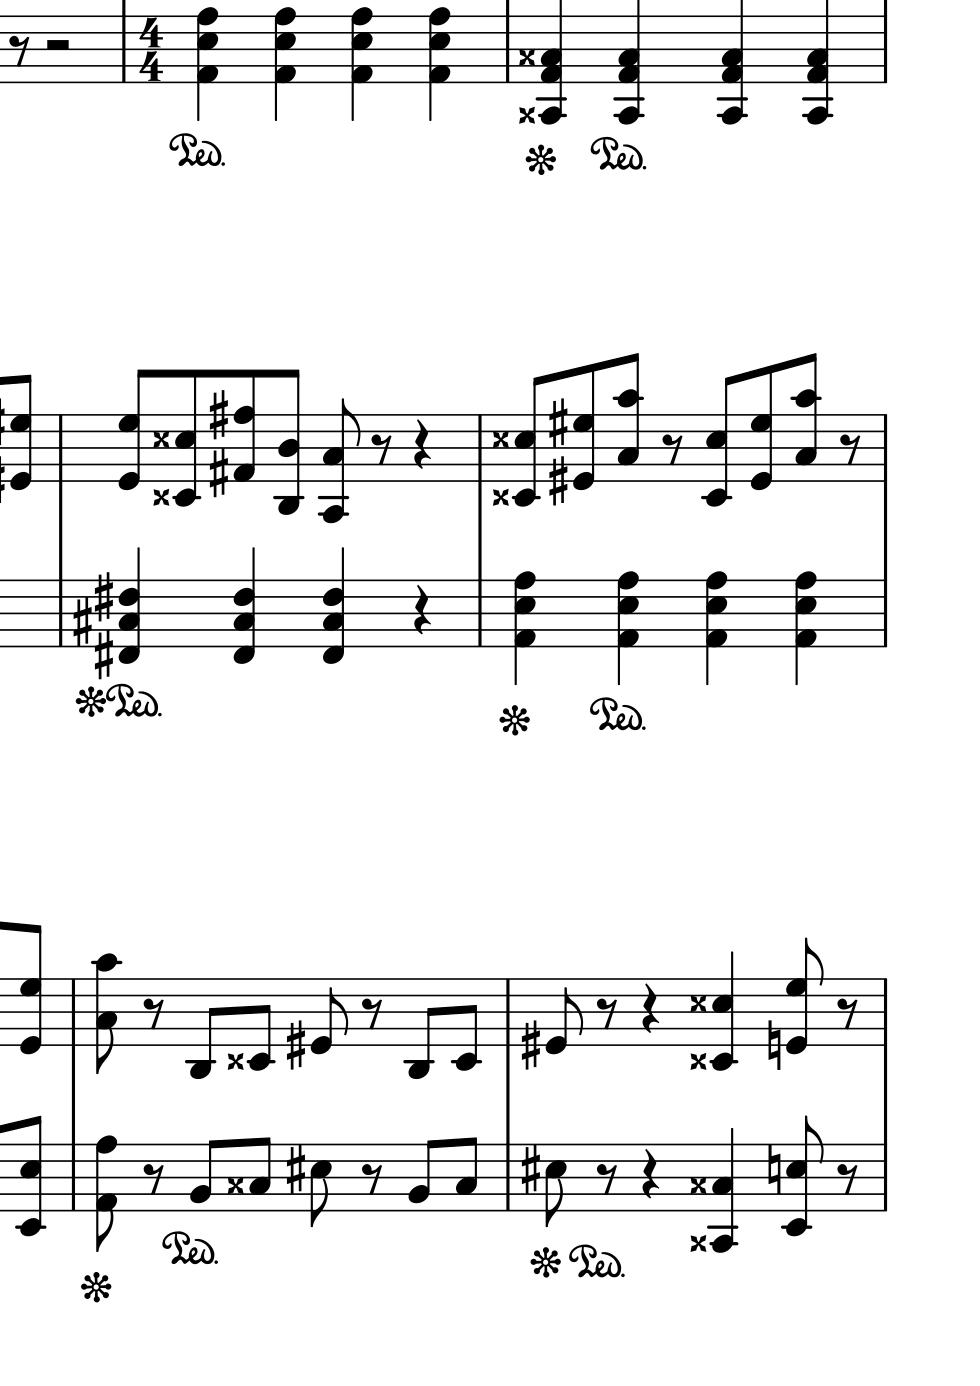4: (137, 15, 165, 48), (137, 50, 165, 82)
4_th: (533, 1, 570, 128), (801, 1, 834, 128), (612, 1, 645, 126), (344, 1, 375, 125), (716, 2, 748, 126), (268, 1, 300, 124), (422, 1, 453, 126), (192, 1, 222, 125), (790, 566, 819, 691), (319, 545, 349, 665), (613, 567, 642, 690), (700, 567, 729, 687), (231, 545, 259, 666), (509, 567, 537, 686)
8_-2: (451, 977, 482, 1073), (246, 976, 275, 1073)
8_-2_5: (699, 373, 743, 507), (780, 1115, 824, 1236), (510, 374, 545, 508), (170, 368, 202, 507), (14, 1115, 47, 1238), (708, 952, 739, 1072)
8_-3: (185, 978, 218, 1081), (404, 978, 437, 1081)
8_-3_4: (273, 368, 305, 516)
8_-4_3: (315, 398, 362, 523), (708, 1127, 741, 1253)
8_0: (545, 977, 582, 1056), (310, 977, 347, 1055)
8_0_7: (784, 938, 826, 1054), (117, 367, 150, 490), (570, 365, 597, 490), (750, 367, 775, 490)
8_1_8: (231, 368, 257, 484), (93, 1135, 118, 1253)
8_2: (188, 1138, 218, 1212), (406, 1138, 437, 1212)
8_3: (453, 1135, 478, 1213), (248, 1135, 272, 1213)
8_3_10: (611, 353, 644, 484), (790, 351, 822, 483), (91, 952, 124, 1072)
8_5: (307, 1141, 333, 1228), (542, 1141, 567, 1228)
DSharp: (151, 427, 171, 451), (687, 1050, 708, 1071), (688, 1050, 707, 1073), (150, 431, 173, 450), (225, 1051, 246, 1071), (515, 105, 537, 125), (688, 1233, 708, 1253), (150, 487, 170, 507), (489, 487, 509, 507), (490, 429, 511, 449), (517, 46, 535, 68), (518, 102, 535, 125), (151, 485, 168, 508), (689, 993, 708, 1013), (518, 47, 538, 66), (224, 1052, 243, 1072), (689, 1231, 706, 1253), (490, 429, 510, 448), (689, 993, 707, 1013), (224, 1176, 244, 1193), (688, 1177, 708, 1194), (491, 486, 508, 505), (226, 1176, 244, 1193), (692, 1177, 707, 1195)
Natural: (764, 1142, 782, 1198), (765, 1018, 782, 1072)
Rests2: (42, 37, 72, 53)
Rests4: (410, 583, 433, 637), (410, 418, 432, 473), (638, 982, 659, 1035), (638, 1148, 659, 1201)
Rests8: (835, 1161, 861, 1198), (659, 431, 685, 467), (838, 431, 863, 467), (369, 432, 393, 468), (142, 1161, 167, 1197), (595, 996, 619, 1031), (836, 996, 860, 1031), (142, 996, 167, 1030), (360, 1161, 384, 1195), (595, 1162, 619, 1196), (7, 33, 31, 67), (361, 996, 383, 1031)
Sharp: (206, 389, 230, 441), (545, 394, 568, 449), (518, 1018, 541, 1071), (518, 1142, 541, 1195), (206, 448, 229, 499), (283, 1143, 307, 1195), (284, 1018, 307, 1072), (547, 455, 568, 507), (92, 571, 113, 621), (92, 631, 113, 679), (71, 598, 92, 646)
Single_barline: (498, 16, 517, 83), (113, 16, 132, 82), (471, 414, 488, 483), (876, 15, 893, 83), (876, 580, 893, 648), (471, 580, 488, 647), (498, 978, 515, 1045), (500, 1143, 515, 1211), (52, 415, 68, 481), (52, 580, 68, 647), (876, 1144, 892, 1211), (876, 978, 892, 1043), (65, 979, 81, 1045), (877, 414, 892, 481), (65, 1143, 80, 1211)
TimeSig: (137, 16, 167, 84)
